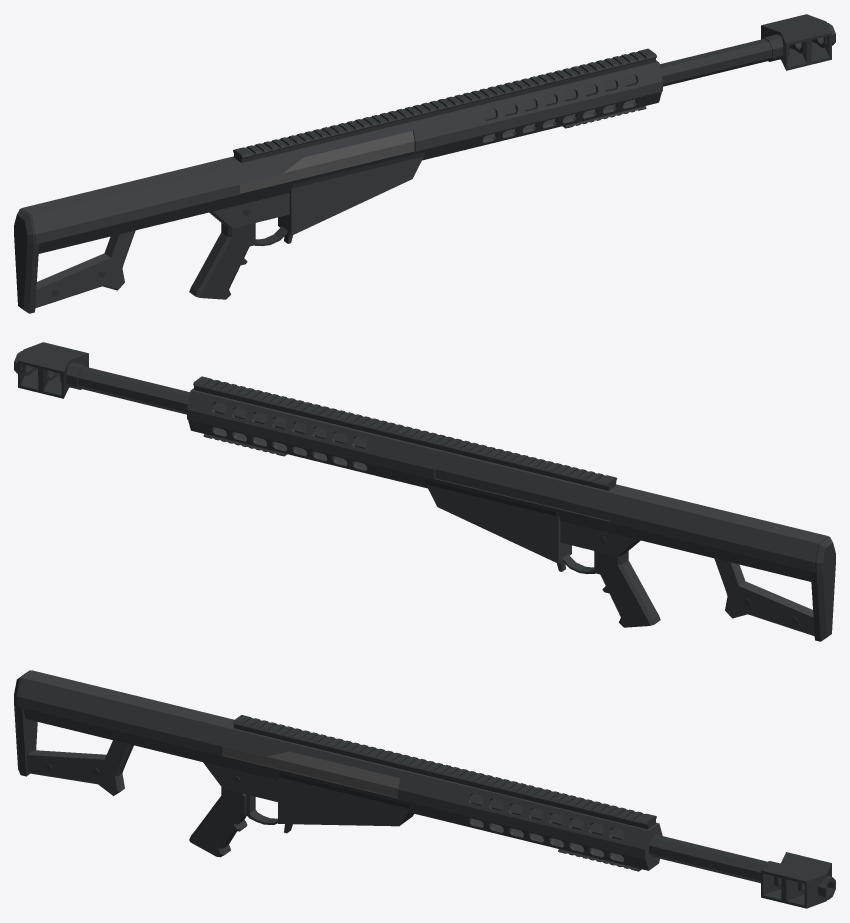
Rendered from SniperRifle4_02.fbx.
The picture shows the model from 3 angles, top to bottom: view 1: azimuth 30°, elevation 25°; view 2: azimuth 150°, elevation 25°; view 3: azimuth 330°, elevation 25°; orthographic projection.
Visible parts, largest first — view 1: SniperRifle4_02; view 2: SniperRifle4_02; view 3: SniperRifle4_02.
Part boxes in pixels (<box>): SniperRifle4_02: <box>14,14,835,313</box>; SniperRifle4_02: <box>14,342,835,641</box>; SniperRifle4_02: <box>14,670,835,908</box>.
Bounding box in the file's own units: 1.39 × 0.2303 × 0.0749.
